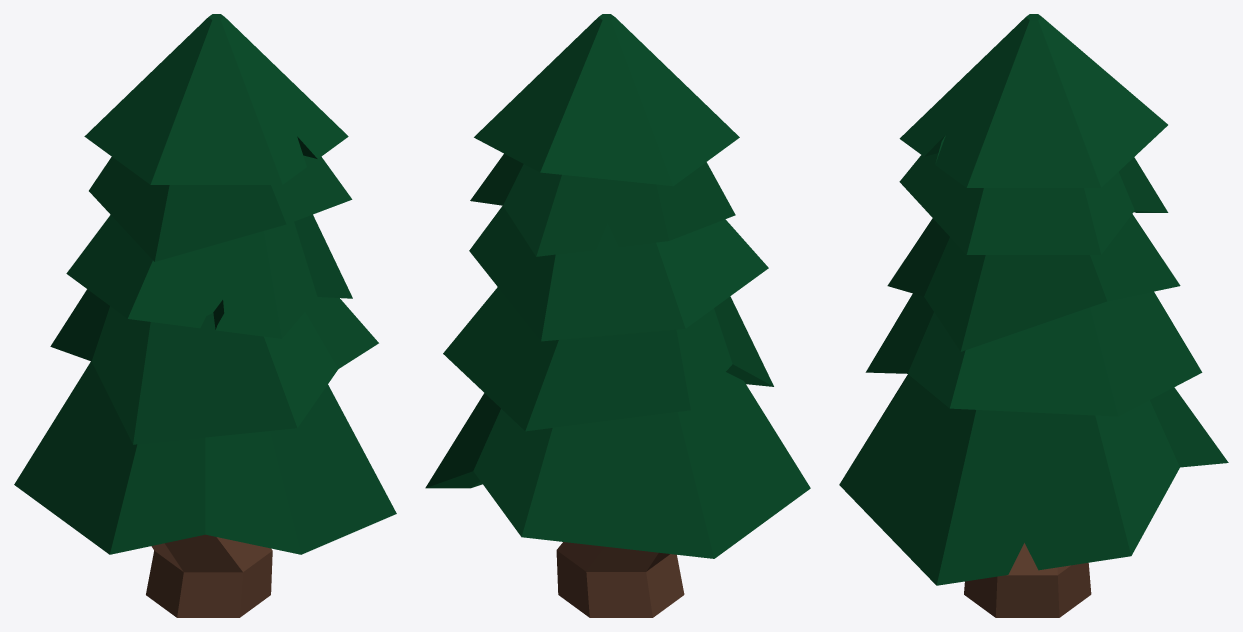
The model's file is Arbol_pino.fbx.
3 renders of one model, left to right at view 1: azimuth 30°, elevation 25°; view 2: azimuth 150°, elevation 25°; view 3: azimuth 270°, elevation 25°, orthographic.
Parts seen in each view (by area): view 1: hojas pino, Tronco; view 2: hojas pino, Tronco; view 3: hojas pino, Tronco.
Boxes of the visible parts, left/top/right/bottom form: hojas pino: left=14, top=14, right=396, bottom=554; Tronco: left=146, top=534, right=272, bottom=617; hojas pino: left=425, top=14, right=810, bottom=558; Tronco: left=556, top=542, right=684, bottom=617; hojas pino: left=839, top=14, right=1228, bottom=585; Tronco: left=964, top=543, right=1091, bottom=617.
Bounding box in the file's own units: 347 × 662 × 401.
